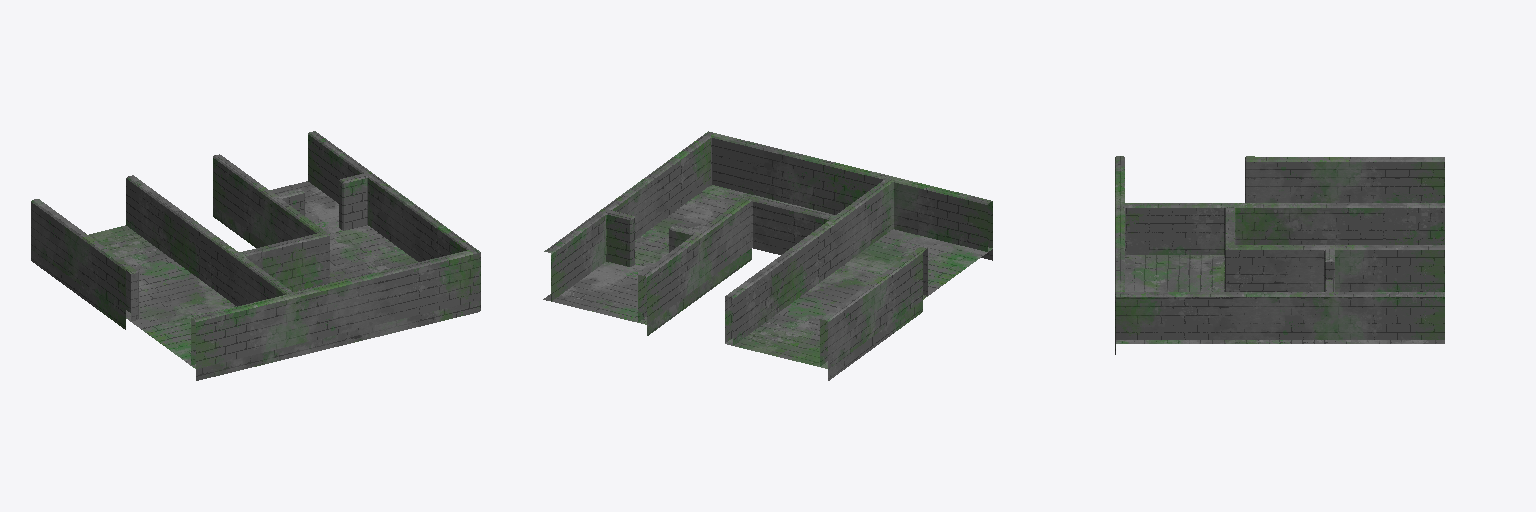
The picture shows the model from 3 angles: view 1: azimuth 30°, elevation 25°; view 2: azimuth 150°, elevation 25°; view 3: azimuth 270°, elevation 25°; orthographic projection.
Visible parts, largest first — view 1: Cube.051, Cube.048, Cube.049, Cube.050, Cube.052; view 2: Cube.051, Cube.048, Cube.049, Cube.050, Cube.052; view 3: Cube.051, Cube.049, Cube.050, Cube.048.
Boxes of the visible parts, box(x1,y1,x2,y2) form: Cube.051: box(126, 154, 472, 368); Cube.048: box(31, 181, 480, 380); Cube.049: box(308, 131, 480, 300); Cube.050: box(31, 199, 138, 321); Cube.052: box(339, 173, 367, 230); Cube.051: box(638, 133, 992, 345); Cube.048: box(543, 185, 992, 380); Cube.049: box(544, 131, 713, 301); Cube.050: box(820, 247, 927, 368); Cube.052: box(606, 210, 634, 266); Cube.051: box(1115, 156, 1444, 291); Cube.049: box(1115, 292, 1444, 342); Cube.050: box(1245, 156, 1444, 202); Cube.048: box(1115, 255, 1444, 354).
Bounding box in the file's own units: 99 × 20 × 99.
Materials: 3 (2 with a texture image).